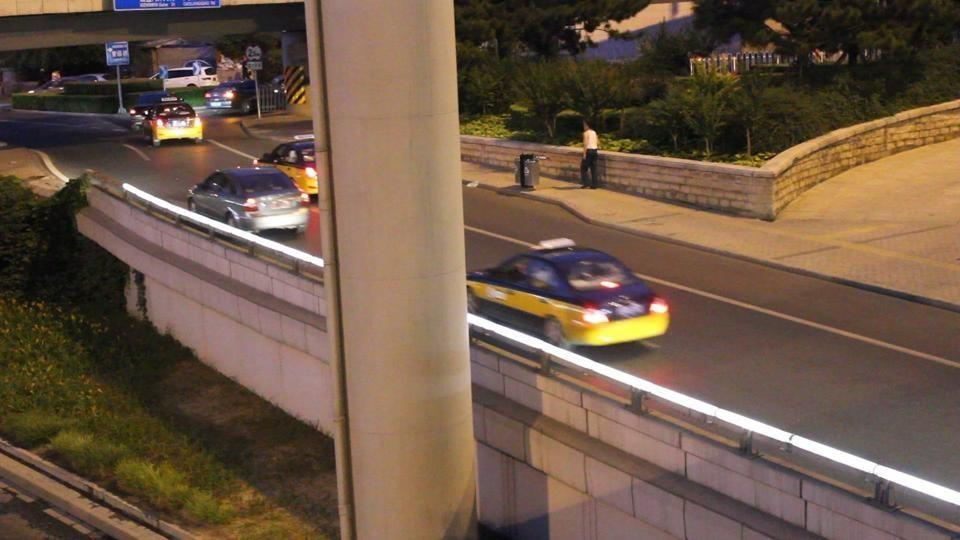car: (466, 241, 671, 349), (187, 166, 308, 235), (253, 137, 319, 202), (127, 92, 204, 146), (203, 79, 258, 115), (152, 63, 218, 92)
